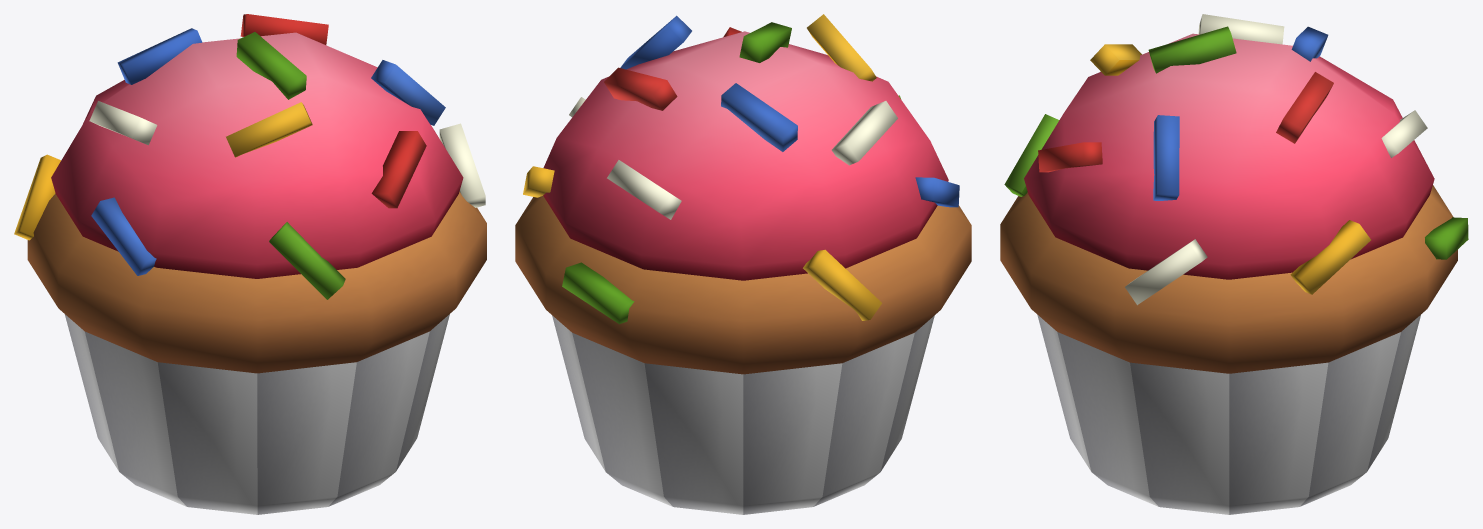
The model's file is m_Cupcake07.fbx.
3 views of the same model, side by side, from view 1: azimuth 30°, elevation 25°; view 2: azimuth 150°, elevation 25°; view 3: azimuth 270°, elevation 25° (orthographic).
Visible parts, largest first — view 1: m_Cupcake07; view 2: m_Cupcake07; view 3: m_Cupcake07.
Part boxes in pixels (x1,y1,x2,y2): m_Cupcake07: [14, 14, 486, 514]; m_Cupcake07: [515, 14, 971, 514]; m_Cupcake07: [1000, 14, 1468, 514].
Size of the model in its own units: 11.39 by 11.58 by 11.65.
